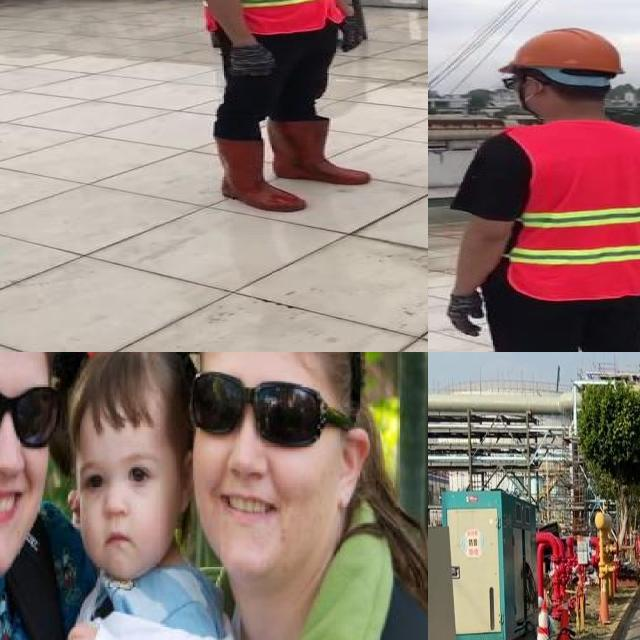No_Ear-Protection: (334, 420, 369, 514)
boots: (220, 44, 286, 80)
face_nomask: (189, 368, 324, 536), (78, 458, 168, 558), (0, 374, 56, 534)
glasses: (183, 366, 340, 454), (0, 375, 66, 451)
hand_glove: (213, 126, 310, 216), (269, 116, 376, 186), (441, 294, 495, 335)
hand_noglove: (55, 617, 98, 640)
head_helmet: (501, 27, 633, 78)
head_nohelmet: (70, 352, 173, 432)
person: (439, 27, 640, 352), (167, 0, 378, 220)
vest: (500, 120, 640, 300), (172, 0, 343, 37)
